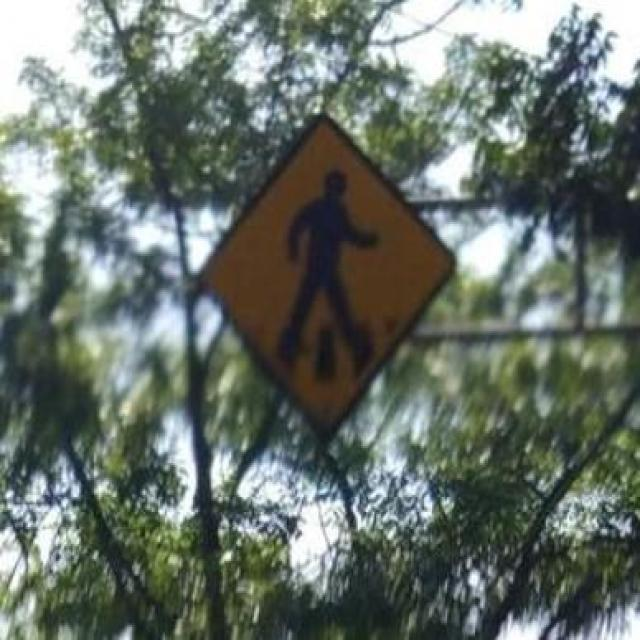traffic sign: (221, 125, 446, 426)
